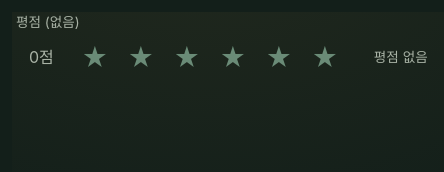
Test: RatingStars › 별을 누르면 그 점수, 같은 별을 다시 누르면 반 점 내린다
Click the button named "4점" at (233, 58), box left=211, top=36, right=255, bottom=80
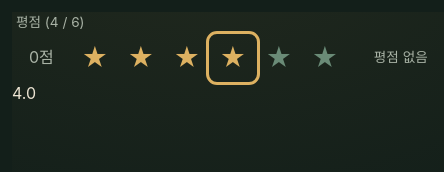
Now the text with test id "value" reads "4.0", box left=12, top=83, right=36, bottom=103
Click the button named "4점" at (233, 58), box left=211, top=36, right=255, bottom=80
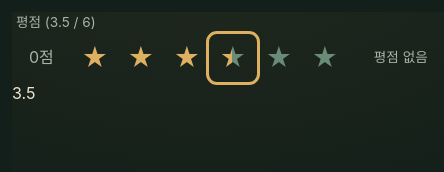
Now the text with test id "value" reads "3.5", box left=12, top=83, right=35, bottom=103
